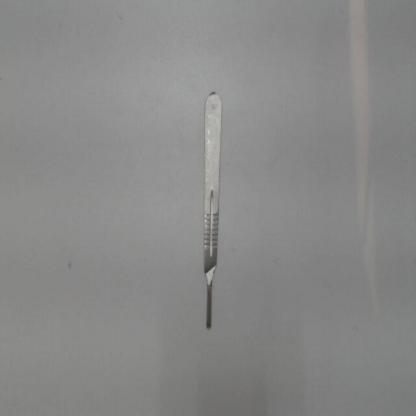No.4 BP Handle: (195, 87, 227, 335)
